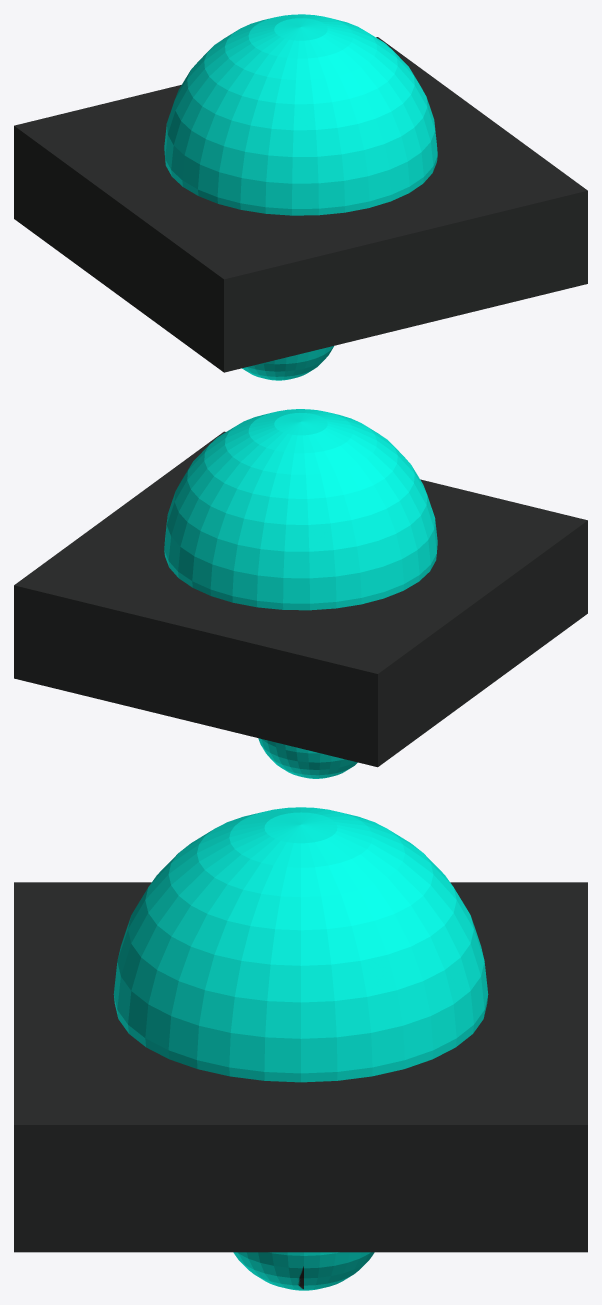
File: enemy.obj
3 views of the same model, one above another, from view 1: azimuth 30°, elevation 25°; view 2: azimuth 150°, elevation 25°; view 3: azimuth 270°, elevation 25° (orthographic). The views are drawn at different scales.
Visible parts, largest first — view 1: 球; view 2: 球; view 3: 球.
Boxes of the visible parts, box(x1,y1,x2,y2) form: 球: box(14, 14, 587, 380); 球: box(14, 409, 587, 778); 球: box(14, 807, 587, 1290).
Bounding box in the file's own units: 1 × 0.7332 × 1.
